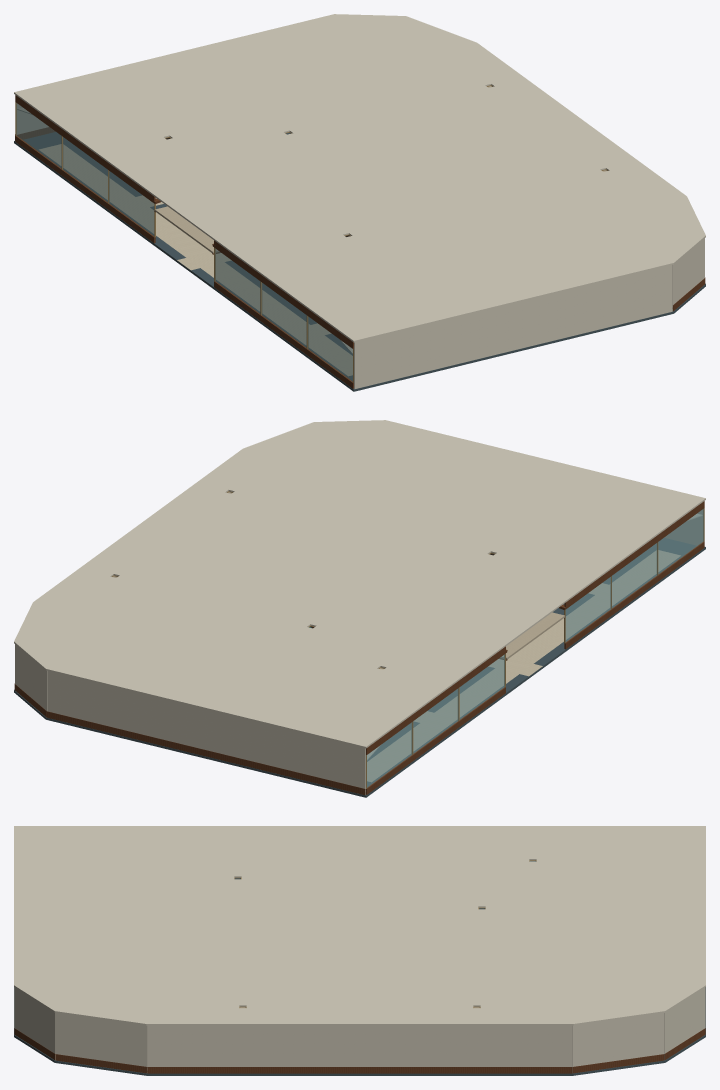
Rendered from AST-GAR-006.glb.
3 views of the same model, one above another, from view 1: azimuth 30°, elevation 25°; view 2: azimuth 150°, elevation 25°; view 3: azimuth 270°, elevation 25° (orthographic).
Parts seen in each view (by area): view 1: NG_ivory_enamel, NG_glass, NG_warm_stone, NG_warm_walnut, NG_night_resin, NG_oatmeal_weave, NG_champagne_metal; view 2: NG_ivory_enamel, NG_glass, NG_warm_stone, NG_warm_walnut, NG_night_resin, NG_oatmeal_weave, NG_champagne_metal; view 3: NG_ivory_enamel, NG_warm_walnut, NG_night_resin.
Boxes of the visible parts, <box> form: NG_ivory_enamel: <box>14,14,705,389</box>; NG_glass: <box>16,103,352,381</box>; NG_warm_stone: <box>39,144,352,375</box>; NG_warm_walnut: <box>15,95,705,388</box>; NG_night_resin: <box>14,132,705,391</box>; NG_oatmeal_weave: <box>155,86,606,253</box>; NG_champagne_metal: <box>15,85,607,382</box>; NG_ivory_enamel: <box>14,420,705,794</box>; NG_glass: <box>367,509,703,787</box>; NG_warm_stone: <box>367,550,680,781</box>; NG_warm_walnut: <box>14,501,704,795</box>; NG_night_resin: <box>14,538,705,797</box>; NG_oatmeal_weave: <box>113,492,564,659</box>; NG_champagne_metal: <box>112,491,704,788</box>; NG_ivory_enamel: <box>14,826,705,1072</box>; NG_warm_walnut: <box>14,1028,705,1073</box>; NG_night_resin: <box>14,878,705,1075</box>.
Bounding box in the file's own units: 46 × 5.62 × 68.
Materials: 10 (7 with a texture image).
